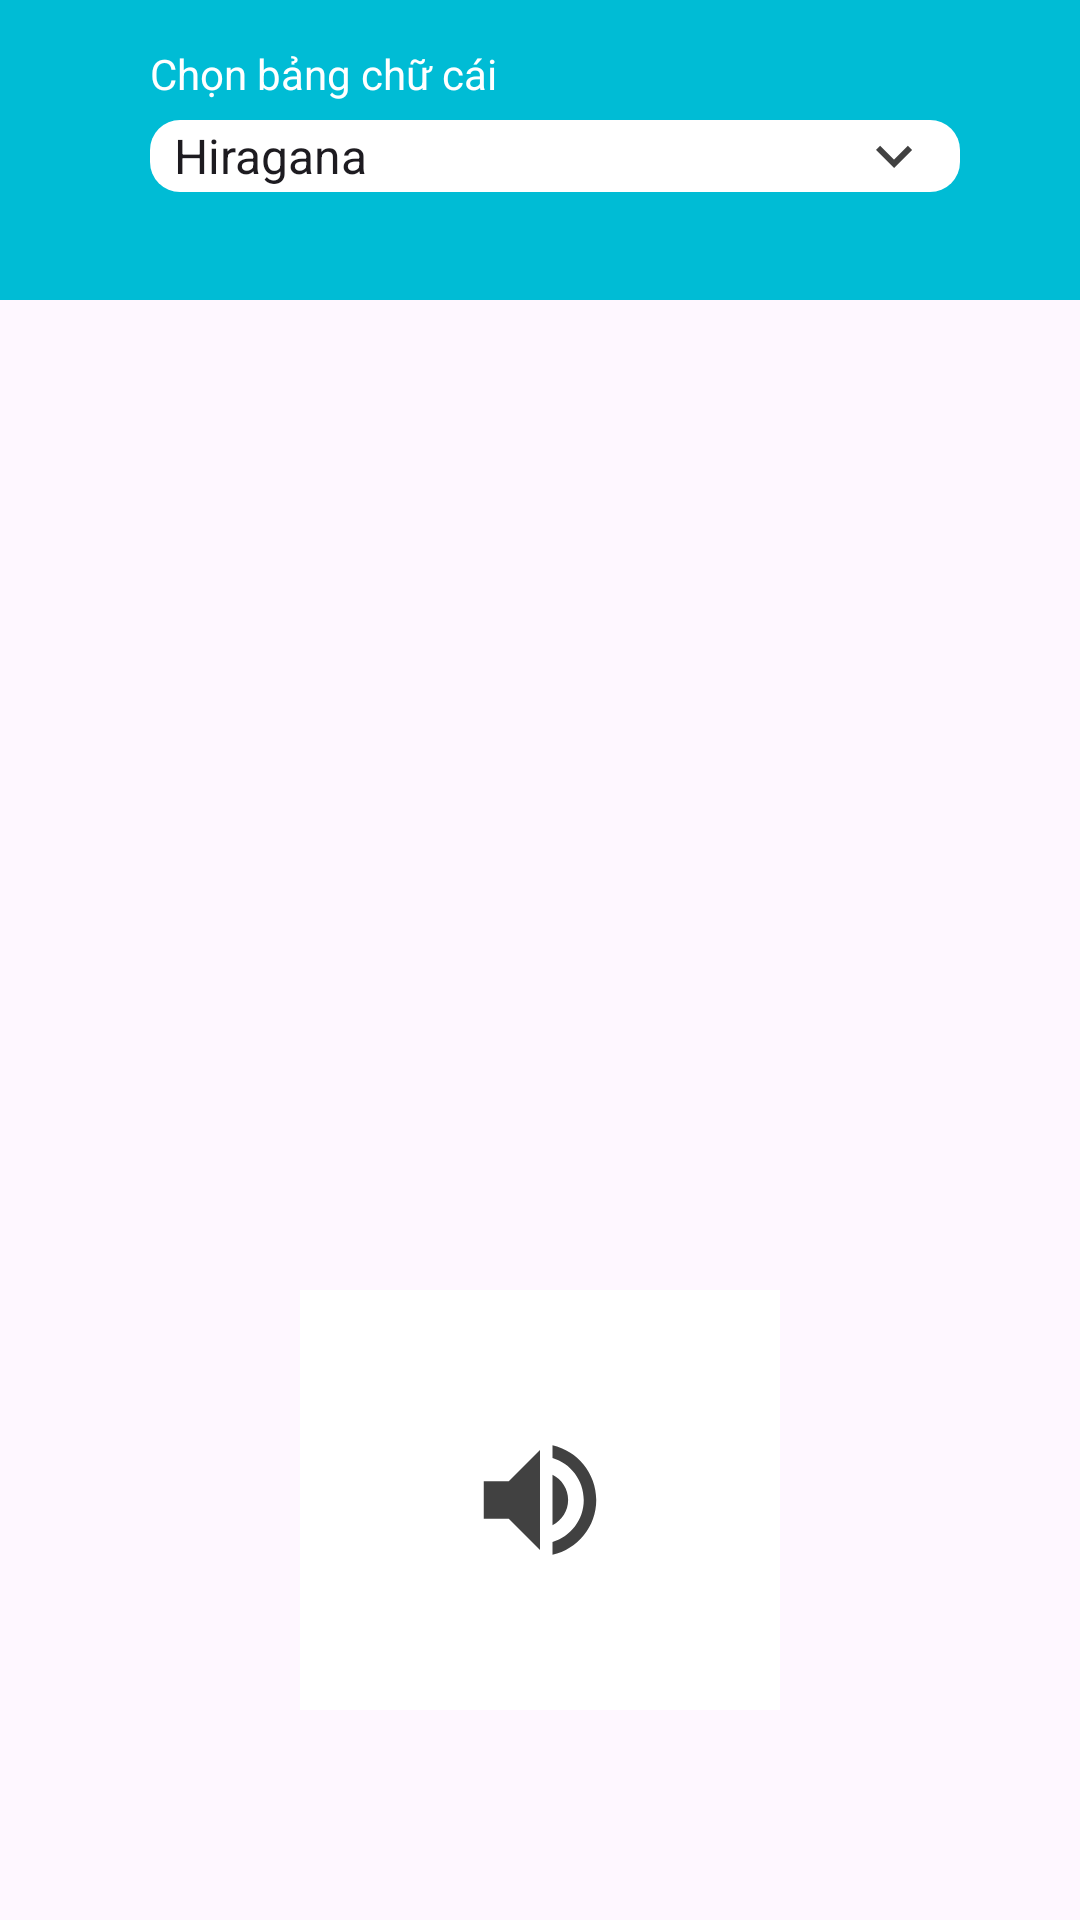

Icons on this 1080 × 1920 Android screen, each with the point to tap as [x,y]:
sound: [540,1500]
